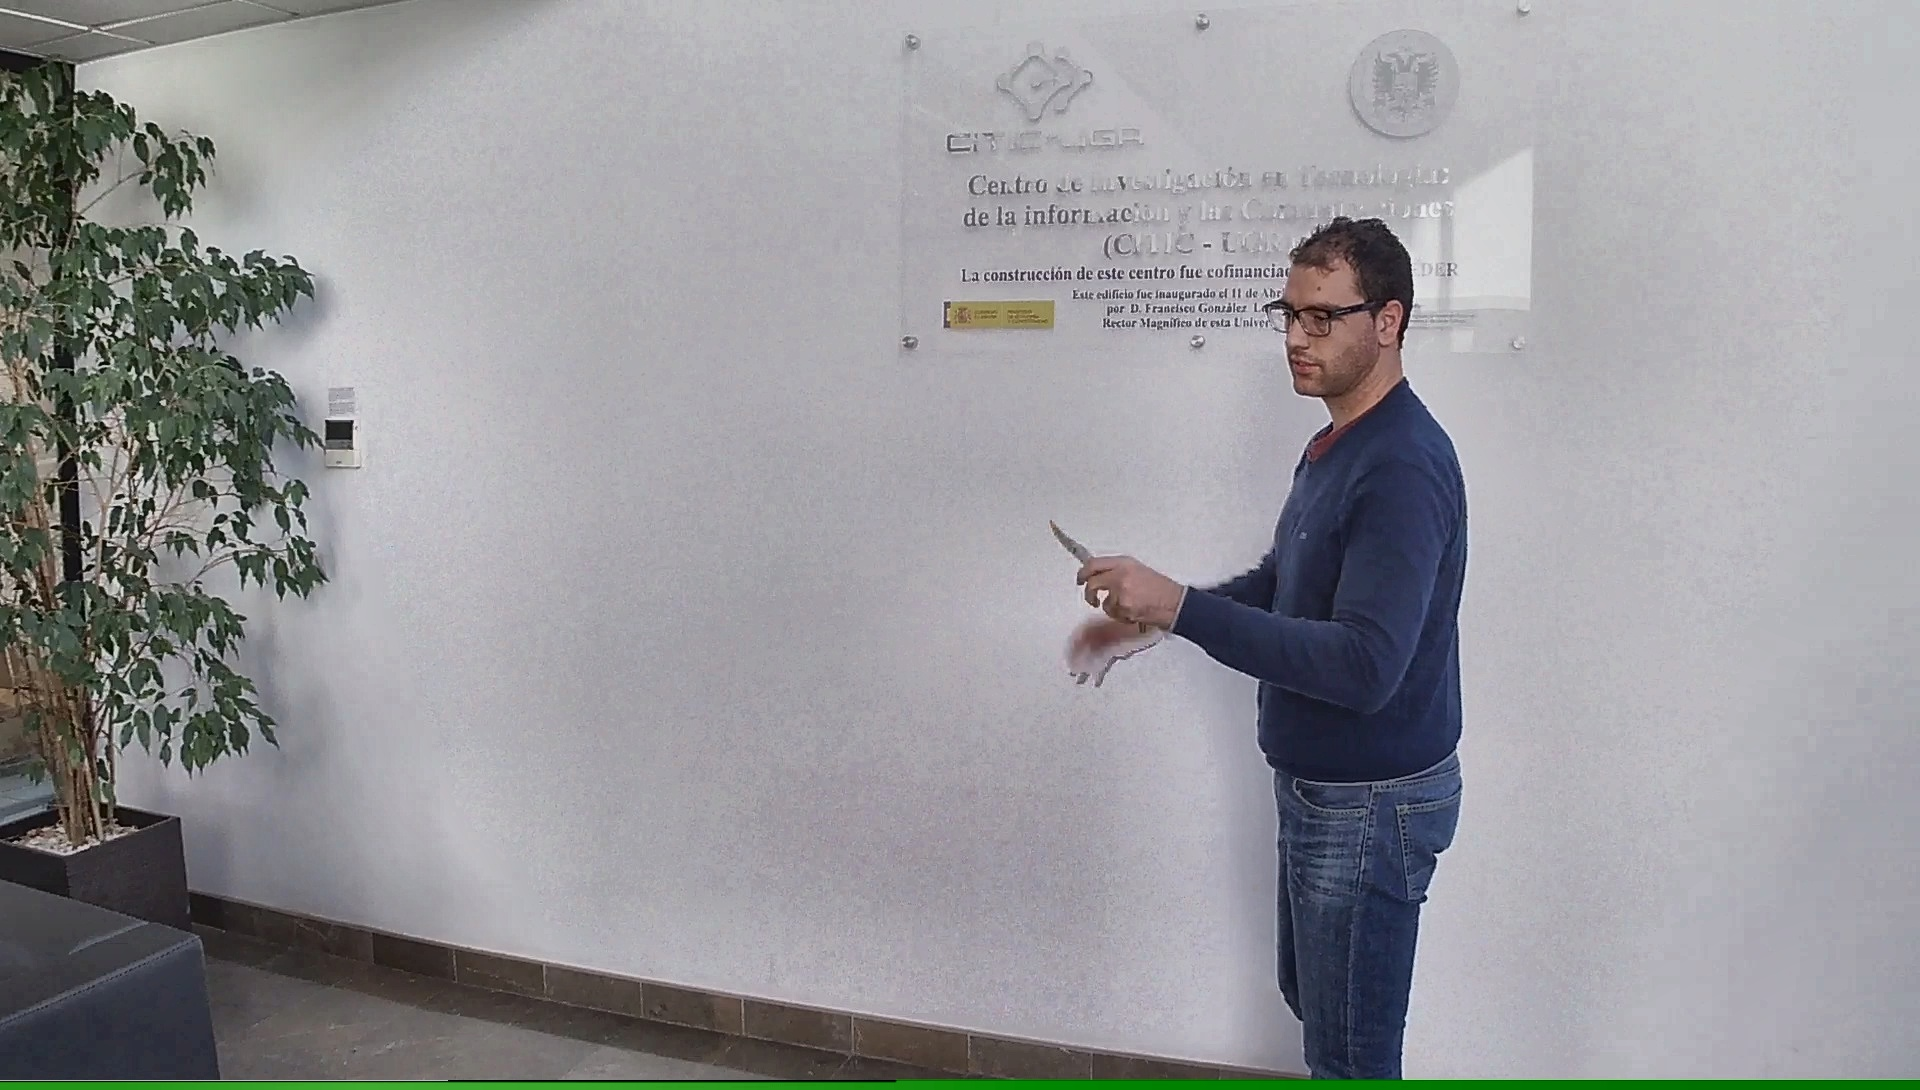knife: (1039, 507, 1131, 598)
